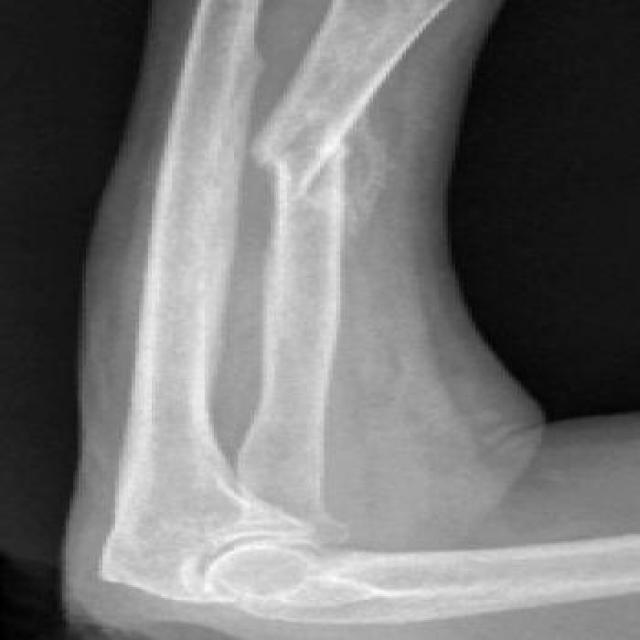fracture: (244, 114, 387, 202)
